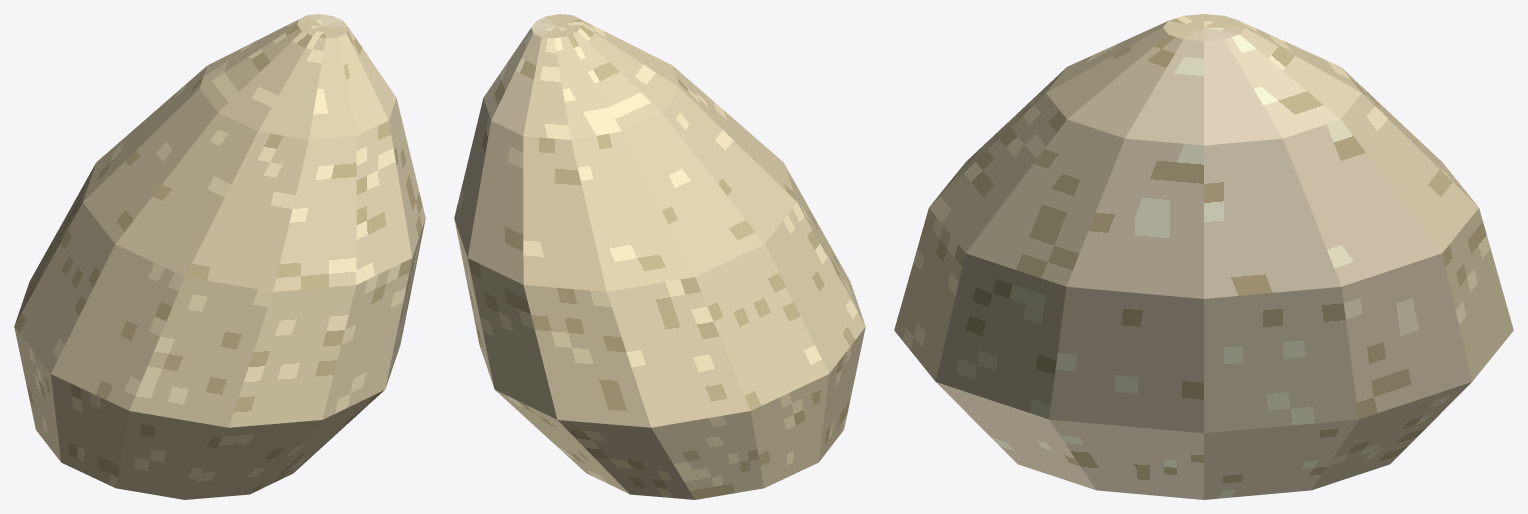
Rendered from garlic_clove.glb.
The picture shows the model from 3 angles, left to right: view 1: azimuth 30°, elevation 25°; view 2: azimuth 150°, elevation 25°; view 3: azimuth 270°, elevation 25°; orthographic projection. The views are drawn at different scales.
Parts seen in each view (by area): view 1: block_single curved garlic clove; view 2: block_single curved garlic clove; view 3: block_single curved garlic clove.
Boxes of the visible parts, <box> form: block_single curved garlic clove: <box>14,14,425,499</box>; block_single curved garlic clove: <box>454,14,865,499</box>; block_single curved garlic clove: <box>894,14,1513,499</box>.
Size of the model in its own units: 0.0283 by 0.0294 by 0.0329.
Materials: 1 (1 with a texture image).
